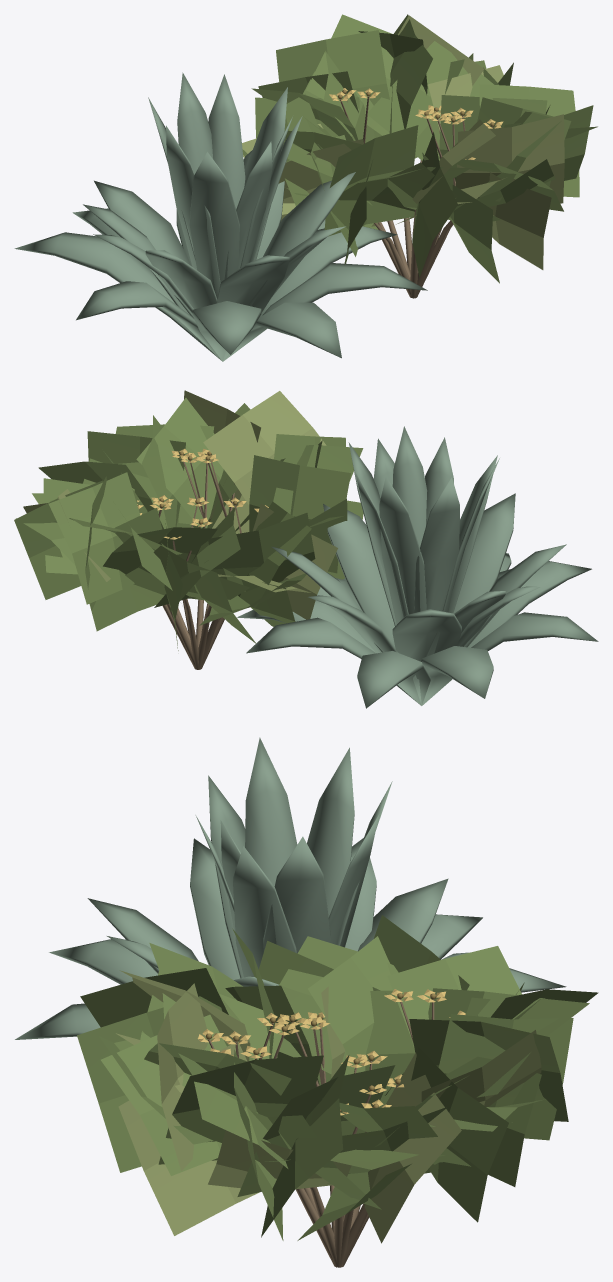
Rendered from garden-low.glb.
3 views of the same model, one above another, from view 1: azimuth 30°, elevation 25°; view 2: azimuth 150°, elevation 25°; view 3: azimuth 270°, elevation 25° (orthographic). The views are drawn at different scales.
Parts seen in each view (by area): view 1: agave-waxy, foliage, foliage-light, wood, garden-petals; view 2: foliage, agave-waxy, foliage-light, wood, garden-petals; view 3: foliage, agave-waxy, foliage-light, wood, garden-petals.
Part boxes in pixels (x1,y1,x2,y2): agave-waxy: (14, 72, 427, 361); foliage: (242, 14, 597, 283); foliage-light: (242, 15, 564, 269); wood: (339, 95, 492, 298); garden-petals: (329, 88, 503, 159); foliage: (14, 398, 363, 650); agave-waxy: (237, 426, 598, 708); foliage-light: (23, 390, 337, 619); wood: (158, 459, 241, 669); garden-petals: (137, 448, 268, 539); foliage: (77, 915, 598, 1240); agave-waxy: (15, 737, 566, 1039); foliage-light: (116, 970, 541, 1243); wood: (208, 999, 434, 1267); garden-petals: (197, 989, 465, 1115).
Size of the model in its own units: 1.19 by 0.5578 by 0.8461.
